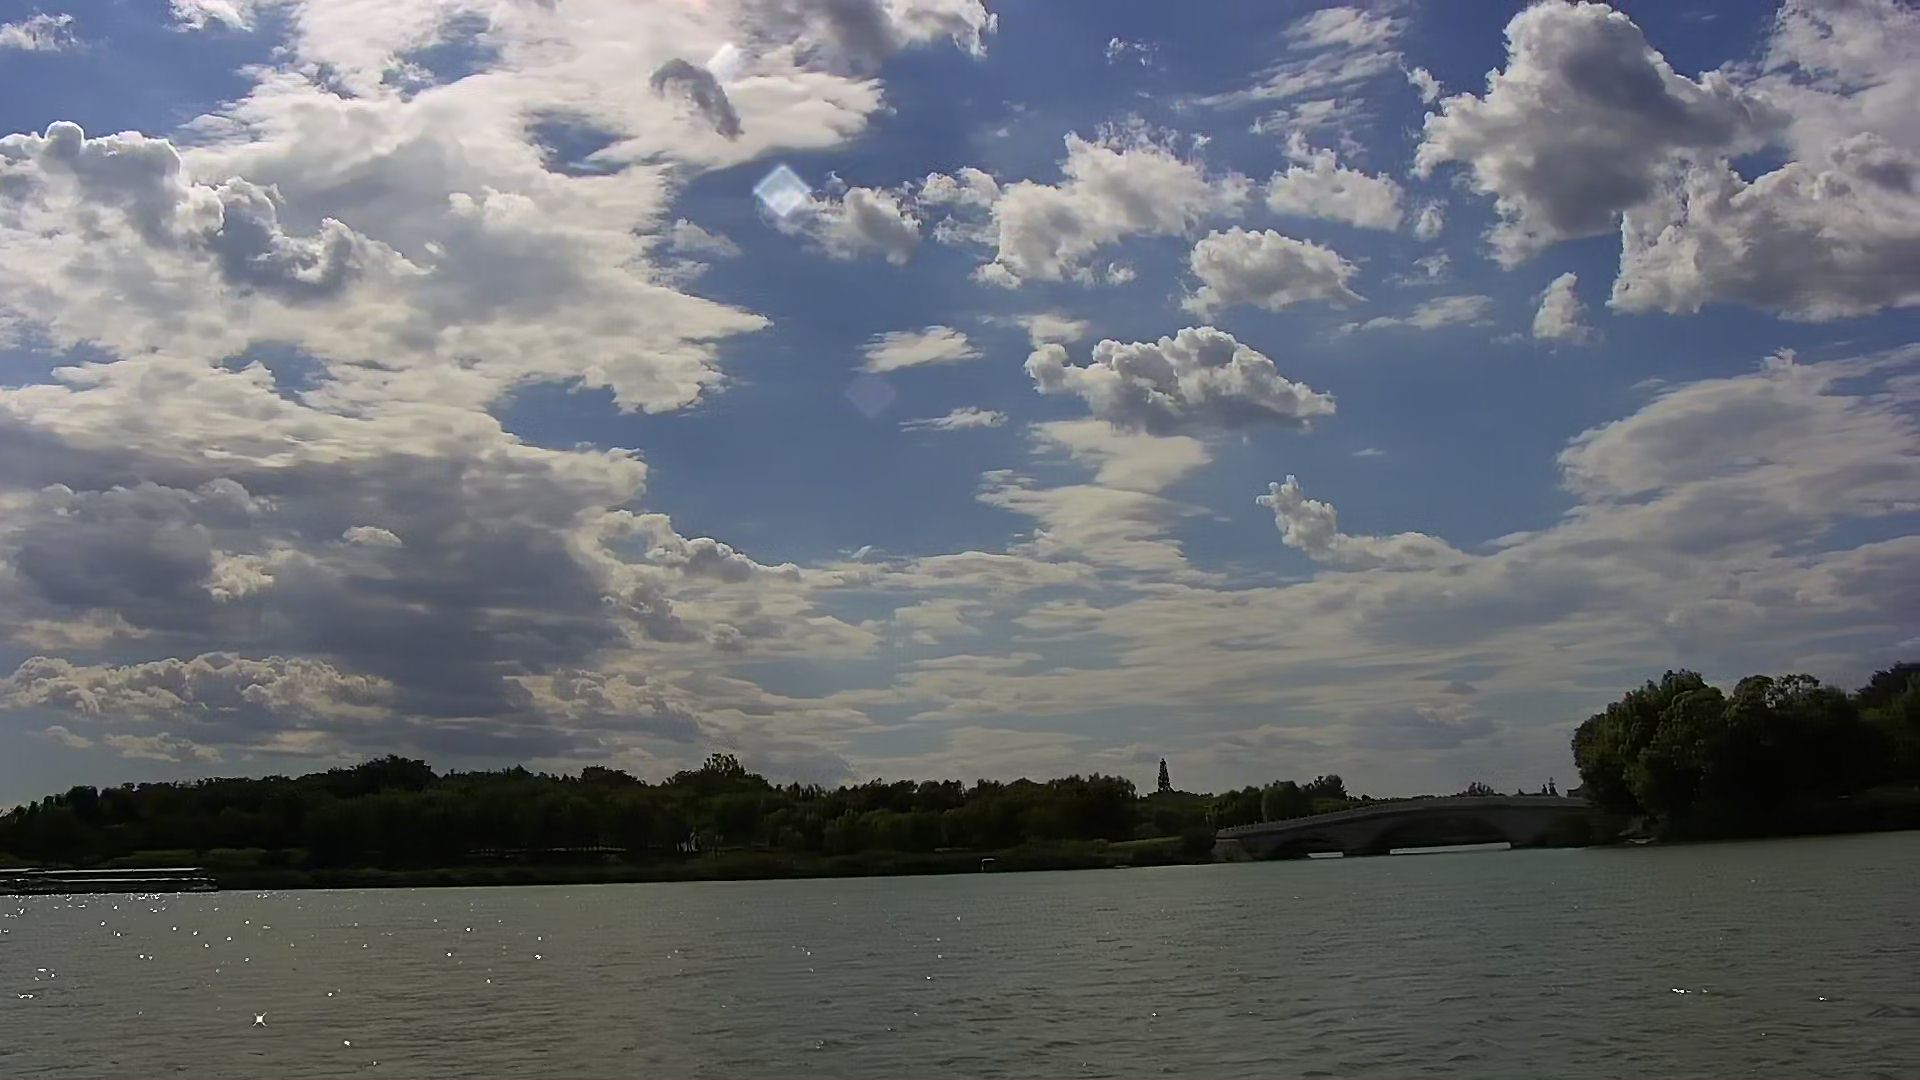bridge: (1226, 795, 1604, 861)
harbor: (3, 862, 211, 895)
